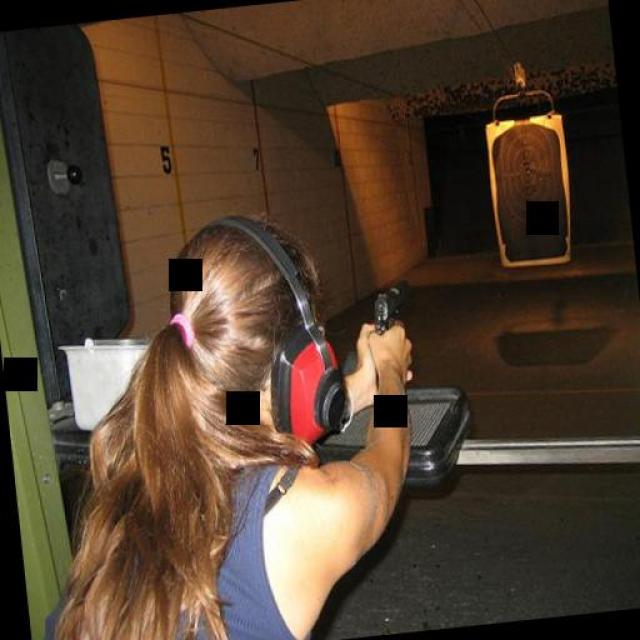gun: (365, 275, 413, 333)
